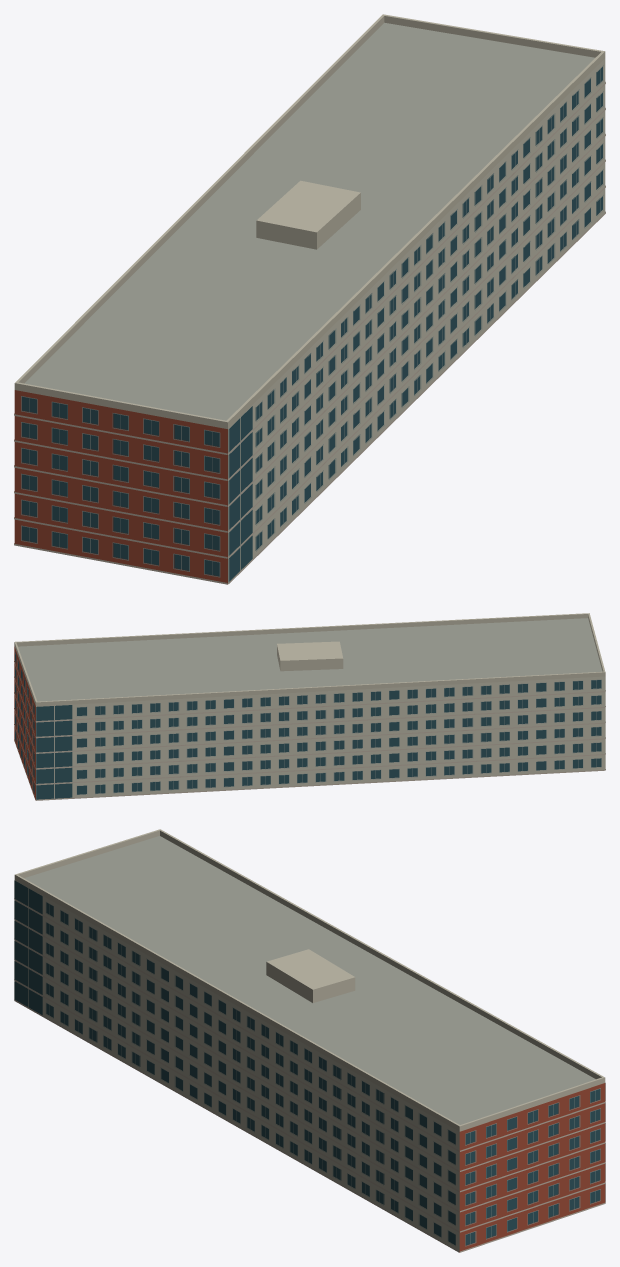
The picture shows the model from 3 angles, top to bottom: view 1: azimuth 30°, elevation 25°; view 2: azimuth 150°, elevation 25°; view 3: azimuth 270°, elevation 25°; orthographic projection. The views are drawn at different scales.
Parts seen in each view (by area): view 1: B18_teaching, V05_B18_facade, B18_teaching_parapet, B18_teaching_plant; view 2: B18_teaching, V05_B18_facade, B18_teaching_parapet, B18_teaching_plant; view 3: B18_teaching, V05_B18_facade, B18_teaching_parapet, B18_teaching_plant.
Part boxes in pixels (bbox=[...]): B18_teaching: bbox=[14, 22, 605, 584]; V05_B18_facade: bbox=[14, 65, 605, 584]; B18_teaching_parapet: bbox=[14, 14, 605, 428]; B18_teaching_plant: bbox=[256, 180, 360, 249]; B18_teaching: bbox=[14, 618, 605, 799]; V05_B18_facade: bbox=[14, 652, 605, 800]; B18_teaching_parapet: bbox=[14, 613, 605, 706]; B18_teaching_plant: bbox=[277, 641, 343, 671]; B18_teaching: bbox=[14, 836, 605, 1252]; V05_B18_facade: bbox=[14, 880, 605, 1252]; B18_teaching_parapet: bbox=[14, 829, 605, 1131]; B18_teaching_plant: bbox=[266, 949, 355, 1002].
Size of the model in its own units: 95 by 20 by 79.83.
Materials: 7 (1 with a texture image).
